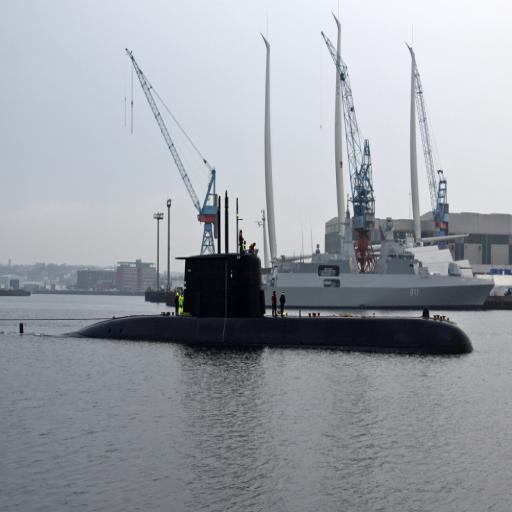submarine: (20, 195, 477, 351)
